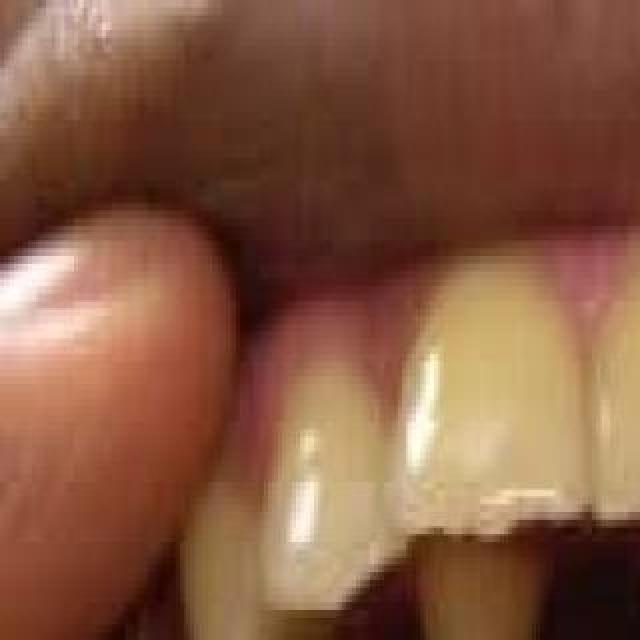maligned: (358, 504, 586, 640), (622, 498, 640, 640)
